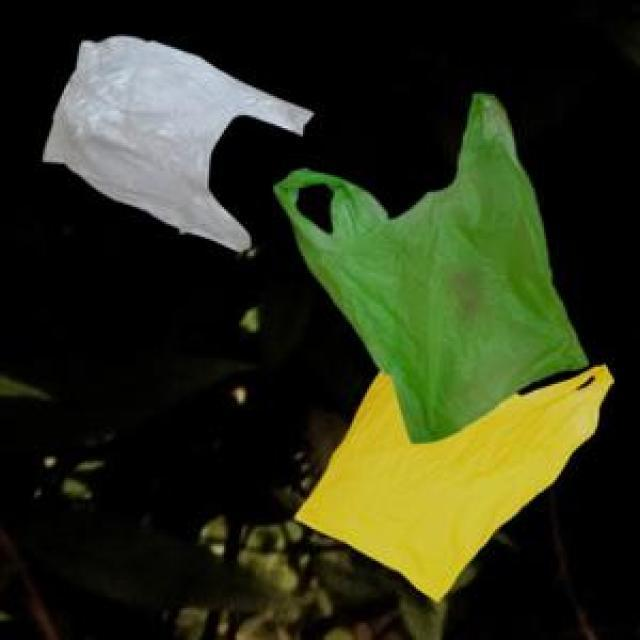waste: (275, 94, 612, 601), (44, 36, 311, 251)
